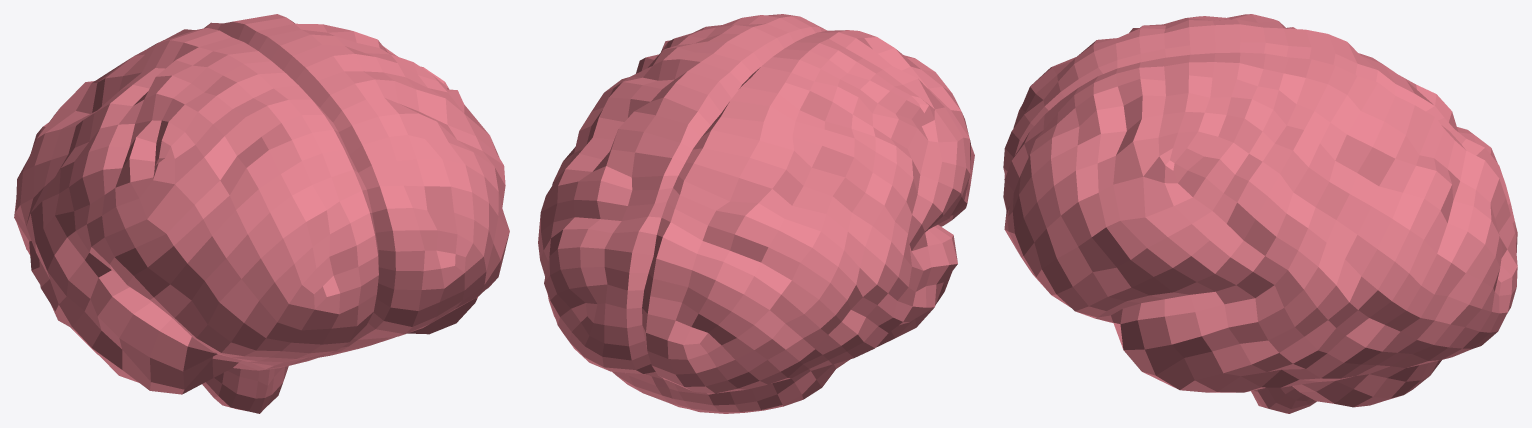
Rendered from brain.glb.
3 renders of one model, left to right at view 1: azimuth 30°, elevation 25°; view 2: azimuth 150°, elevation 25°; view 3: azimuth 270°, elevation 25°, orthographic. The views are drawn at different scales.
Visible parts, largest first — view 1: Brain; view 2: Brain; view 3: Brain.
Boxes of the visible parts, <box> form: Brain: <box>14,14,509,413</box>; Brain: <box>538,14,974,413</box>; Brain: <box>1003,14,1517,413</box>.
Bounding box in the file's own units: 0.4804 × 0.4537 × 0.5738.
